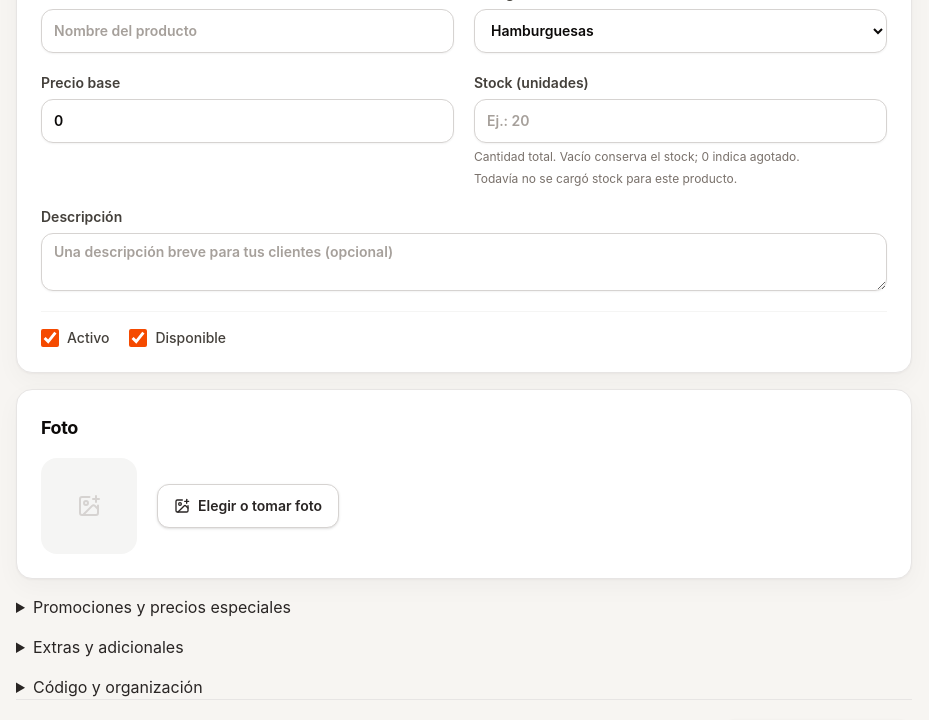
Test: new product route › keeps essentials visible and optional configuration folded until requested
(page scrolled)
Check: the field labelled "Nombre" is shown, box [41,8,454,52]
Check: the number field labelled "Precio base" is shown, box [41,98,454,142]
Click the heading "Promociones y precios especiales".
click(162, 606)  # box [33,596,291,616]
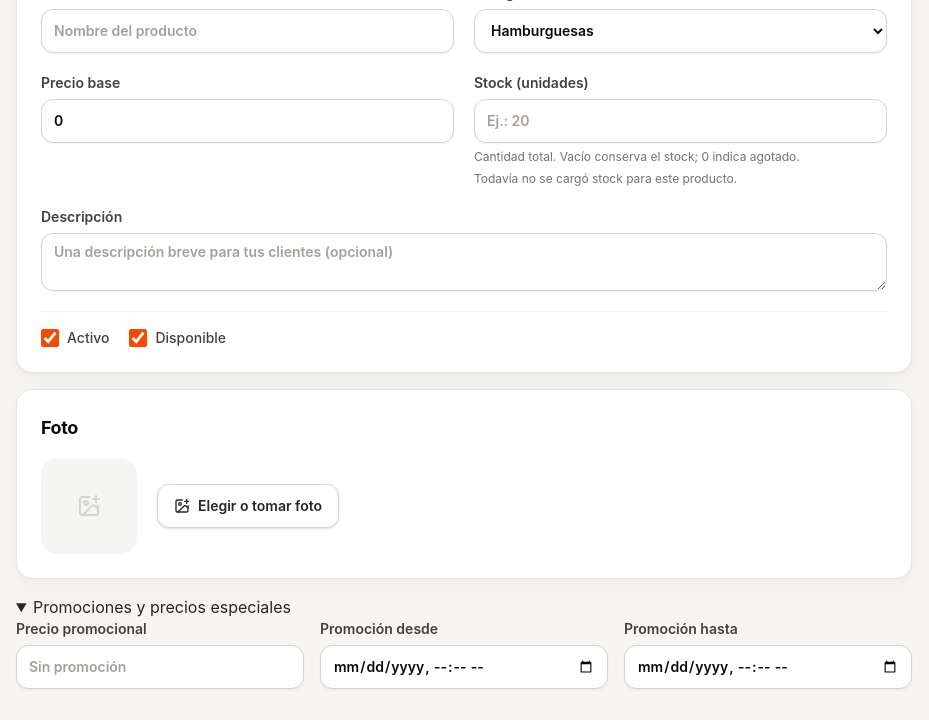
Check: the number field labelled "Precio promocional" is shown, box [16,644,304,688]
